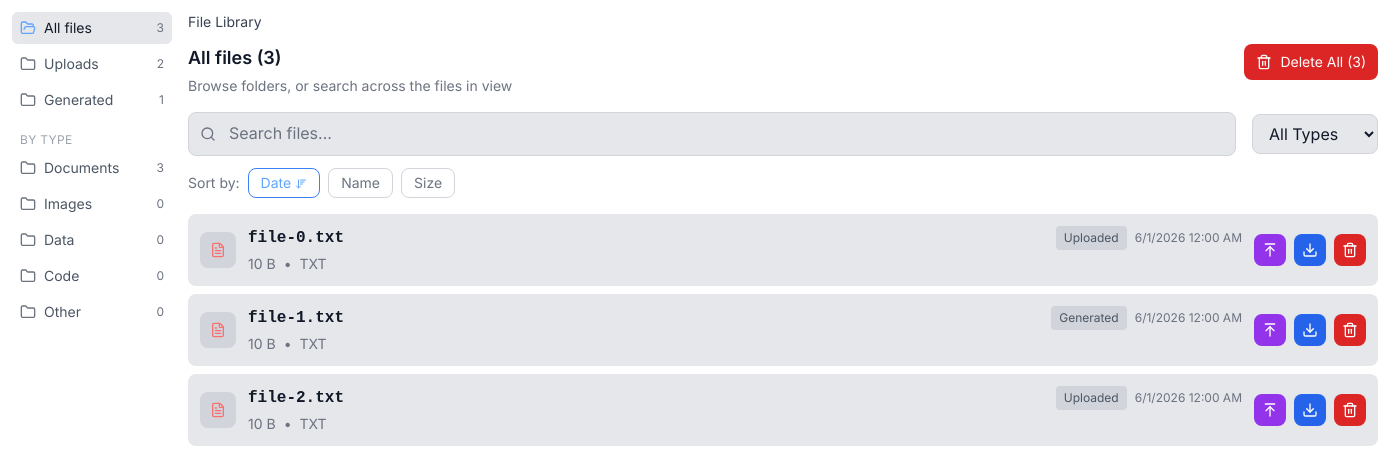
it: AllFilesView - bulk delete › reports partial failures with a count
Click the button "Delete All (3)" at (1311, 62), box [1244,44,1378,80]
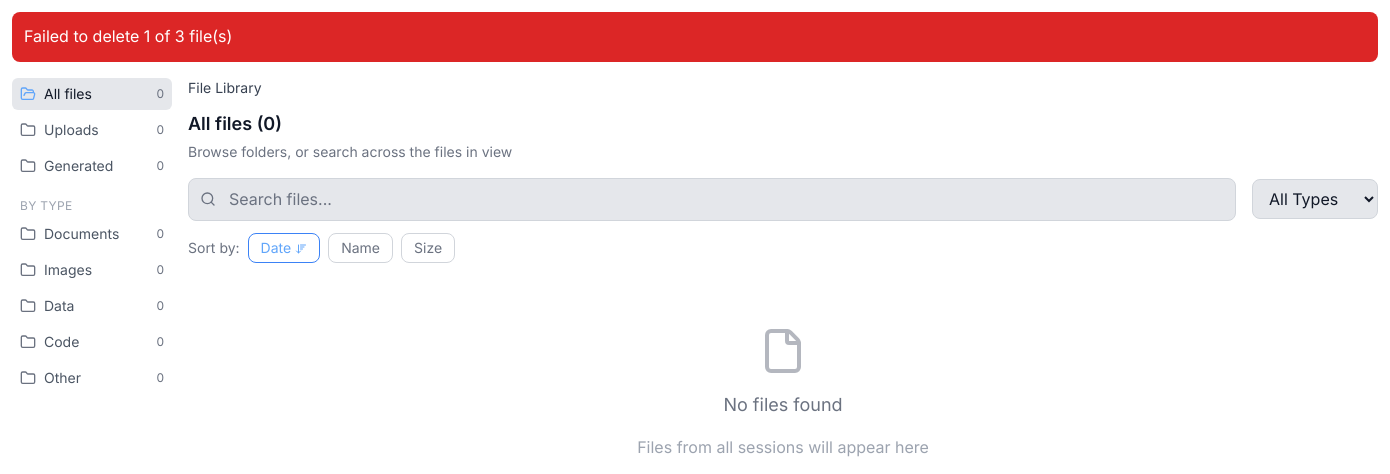
Expected: the text "Failed to delete 1 of 3 file(s)" is shown, [12,12,1378,62]
